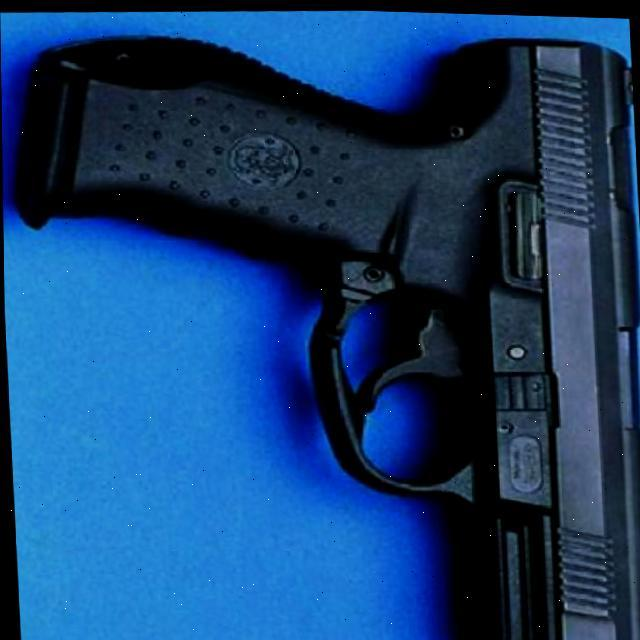gun: (9, 11, 640, 640)
